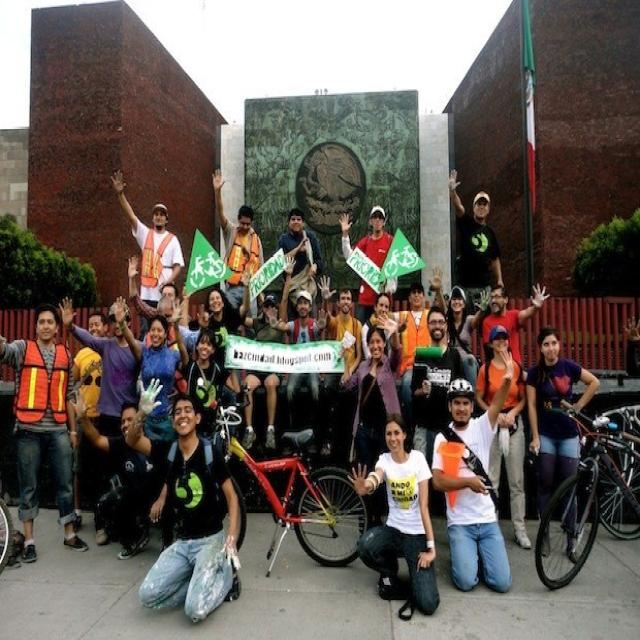body: (124, 374, 242, 626), (0, 300, 90, 566), (428, 344, 522, 596), (58, 294, 145, 546), (344, 410, 442, 620), (523, 321, 602, 567), (68, 385, 170, 563), (336, 308, 406, 546), (474, 322, 535, 552), (109, 165, 187, 343), (236, 252, 298, 451), (112, 293, 190, 442), (264, 284, 330, 458), (170, 296, 243, 436), (378, 264, 449, 406), (408, 304, 468, 470), (445, 164, 506, 318), (316, 273, 364, 465), (69, 310, 114, 510), (212, 166, 267, 318), (338, 202, 400, 329), (140, 296, 210, 395), (172, 226, 236, 334), (194, 267, 255, 374), (480, 281, 551, 369), (274, 205, 324, 322), (438, 284, 494, 356), (126, 252, 181, 322), (359, 290, 400, 362), (619, 307, 640, 385)
